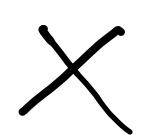mult: (19, 24, 135, 135)
